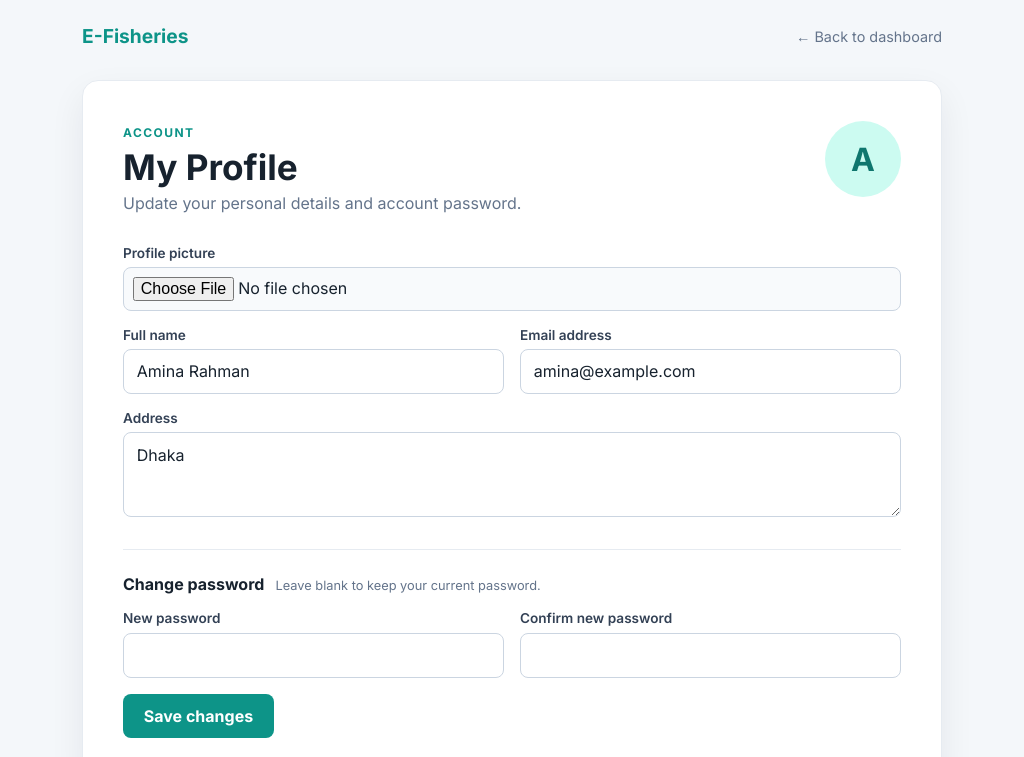
profile integration flow › edits profile details, saves them, and updates the authenticated user
This screenshot has width=1024, height=757.
Replace the text in the text box labelled "Address" with "Chattogram": (512, 475) [123,432,901,517]
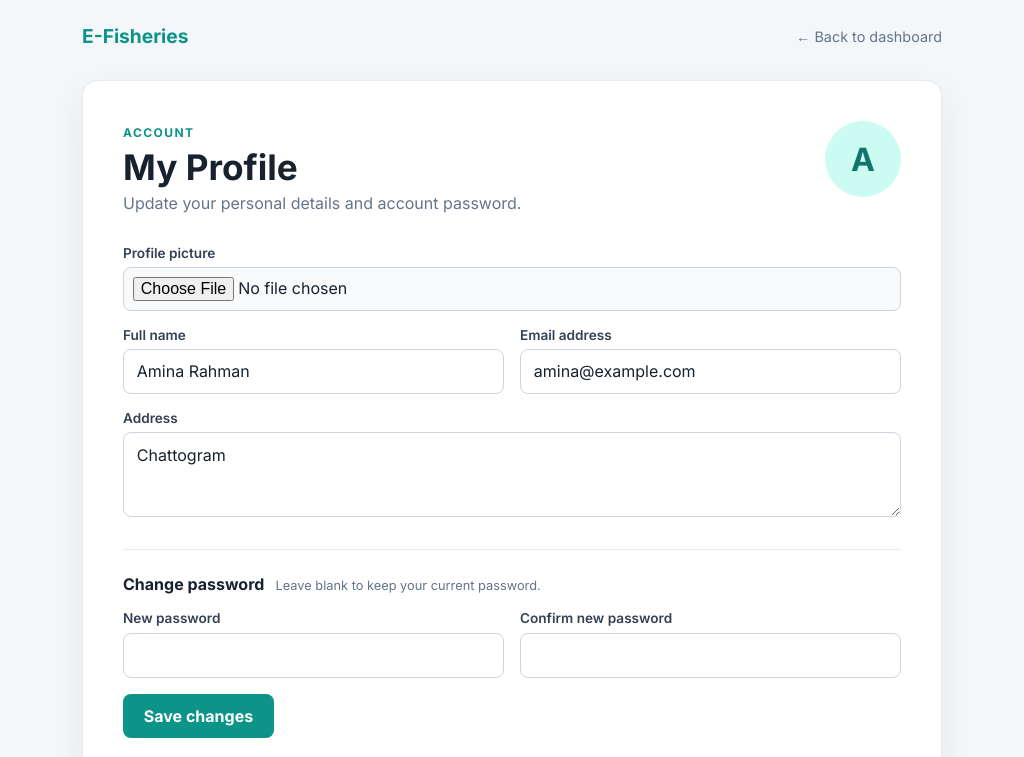
Click the button "Save changes": (198, 716) [123,694,274,738]
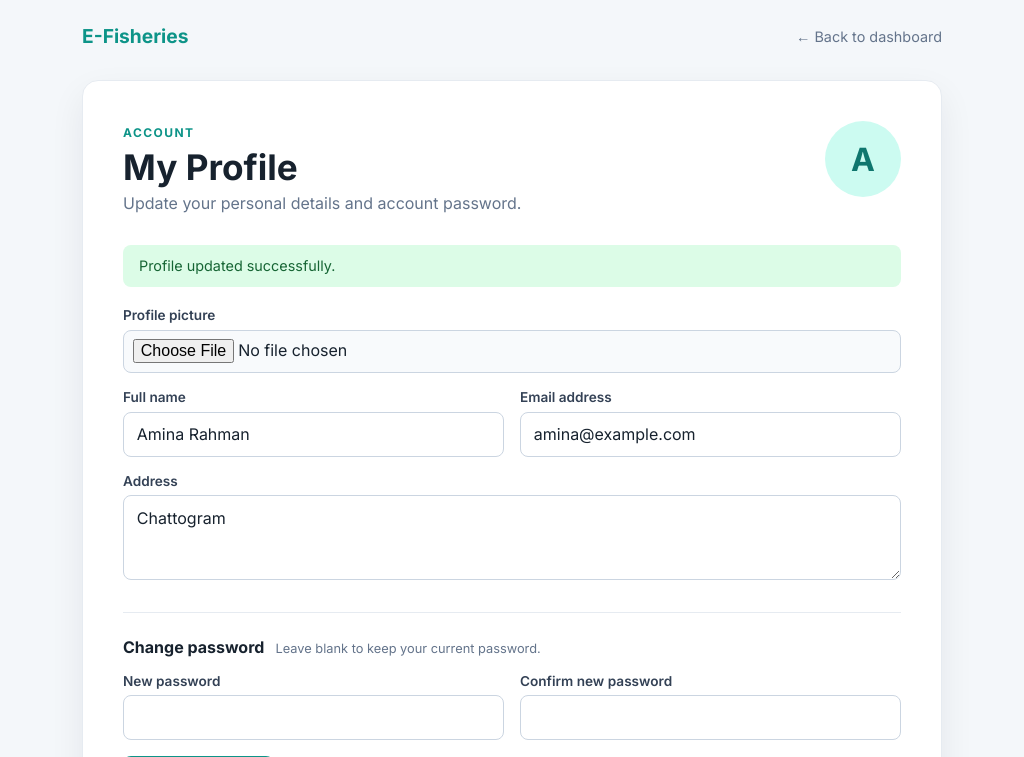
Expected: the message reads "Profile updated successfully.", [139,257,335,274]
